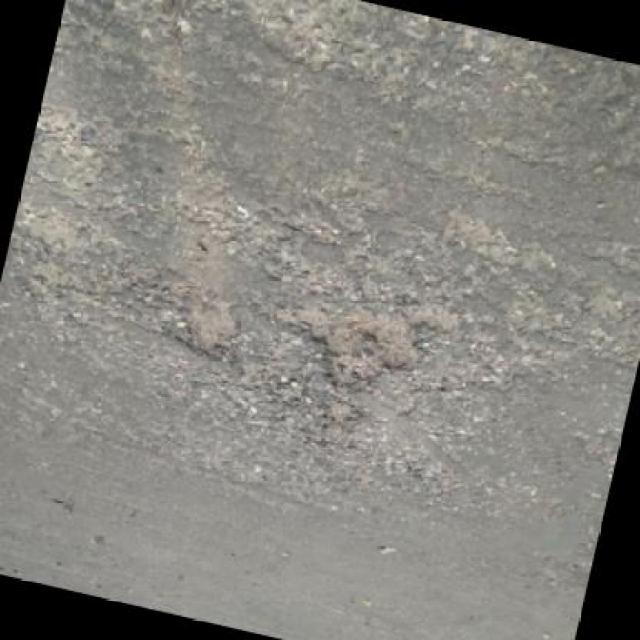pothole1: (287, 298, 436, 408), (177, 293, 251, 364)
